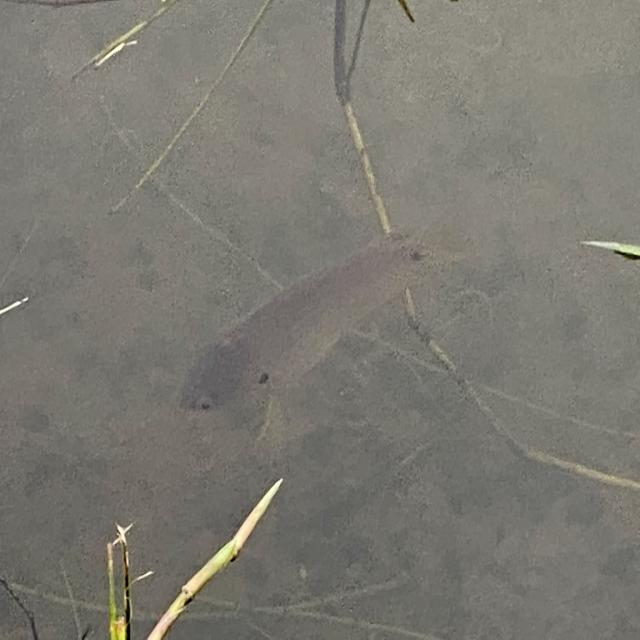Climbing-Perch: (146, 182, 474, 448)
